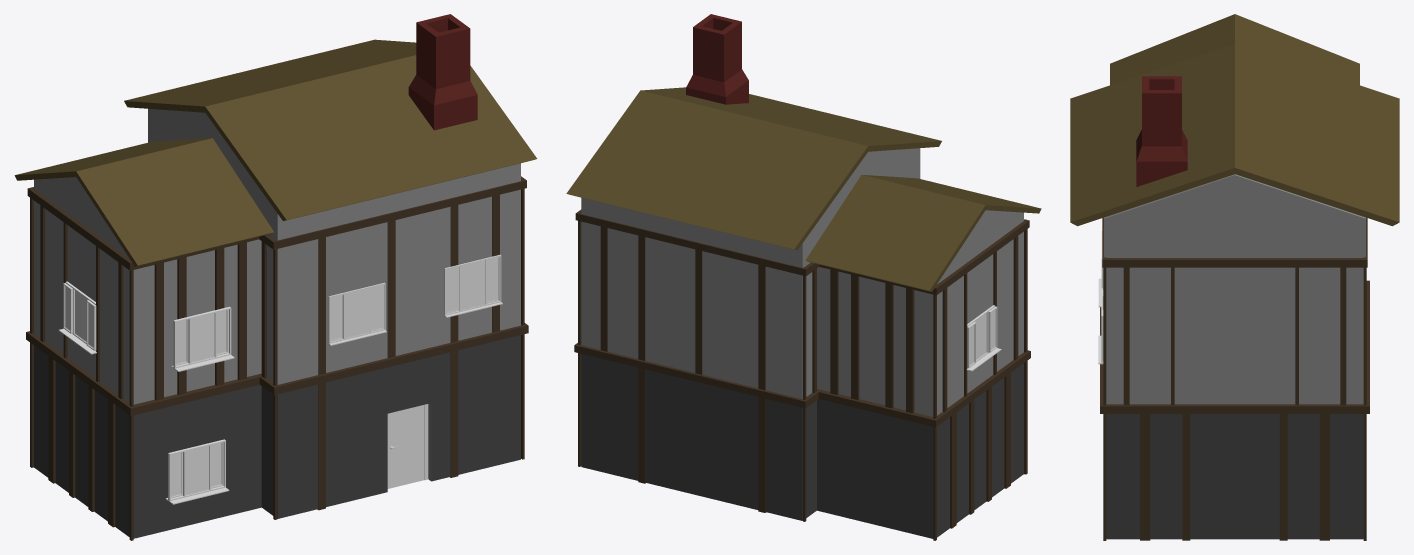
Rendered from SM_2StoryHouse.fbx.
3 renders of one model, left to right at view 1: azimuth 30°, elevation 25°; view 2: azimuth 150°, elevation 25°; view 3: azimuth 270°, elevation 25°, orthographic. The views are drawn at different scales.
Parts seen in each view (by area): view 1: SM_2StoryHouses.001, Cube.020, Window.013, Window.012, Window.015, Window.014, Door.003, Window.011; view 2: SM_2StoryHouses.001, Cube.020, Window.011; view 3: SM_2StoryHouses.001, Cube.020.
Boxes of the visible parts, left/top/right/bottom form: SM_2StoryHouses.001: left=14, top=39, right=537, bottom=540; Cube.020: left=408, top=14, right=477, bottom=130; Window.013: left=171, top=306, right=234, bottom=371; Window.012: left=165, top=439, right=229, bottom=504; Window.015: left=444, top=254, right=502, bottom=317; Window.014: left=328, top=282, right=386, bottom=345; Door.003: left=388, top=404, right=424, bottom=488; Window.011: left=58, top=281, right=96, bottom=354; SM_2StoryHouses.001: left=566, top=87, right=1041, bottom=540; Cube.020: left=686, top=14, right=748, bottom=104; Window.011: left=966, top=305, right=1001, bottom=371; SM_2StoryHouses.001: left=1070, top=14, right=1399, bottom=540; Cube.020: left=1136, top=76, right=1187, bottom=186.
Bounding box in the file's own units: 1238 × 1303 × 903.
